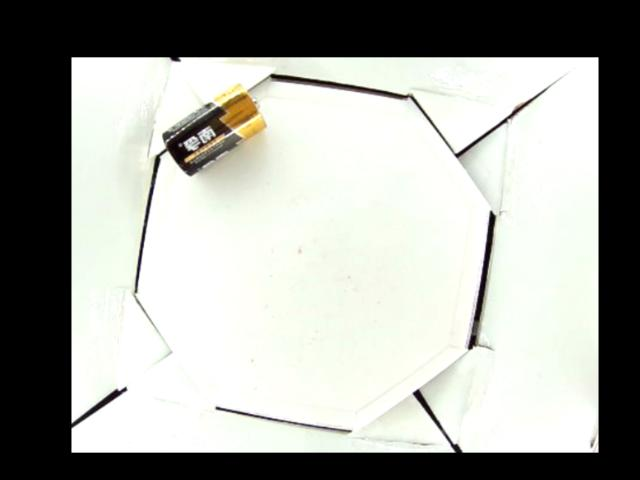Battery: (160, 82, 266, 177)
